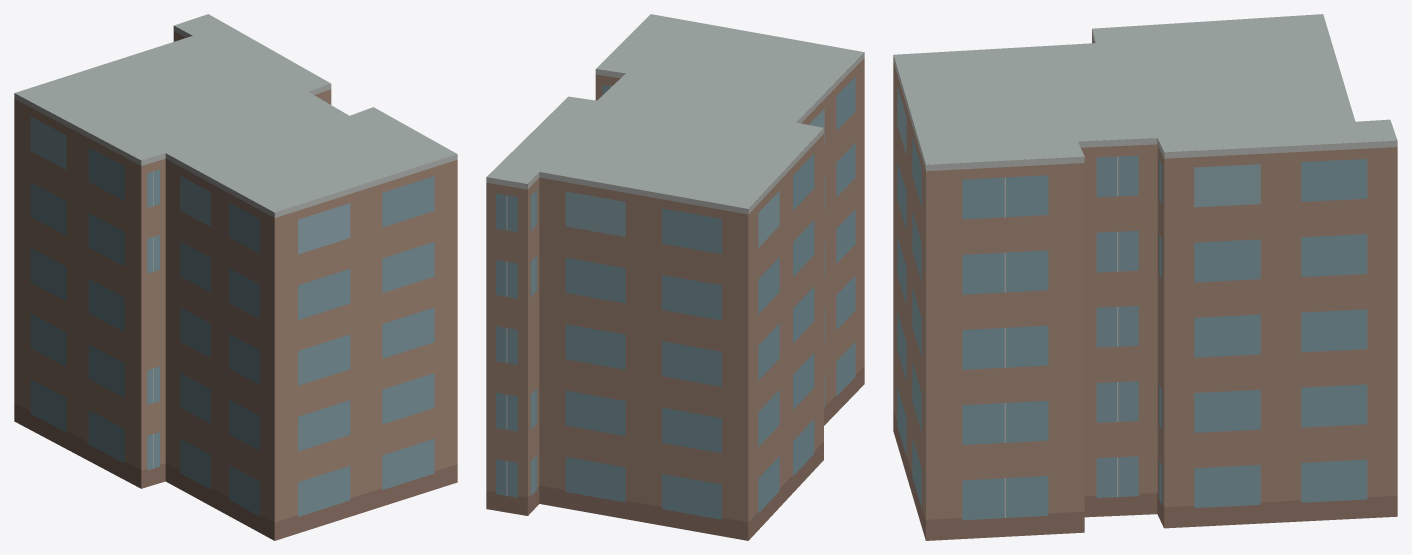
Rendered from survey-upis-33020286.glb.
3 renders of one model, left to right at view 1: azimuth 30°, elevation 25°; view 2: azimuth 150°, elevation 25°; view 3: azimuth 270°, elevation 25°, orthographic. The views are drawn at different scales.
Visible parts, largest first — view 1: survey-upis-33020286.tmp; view 2: survey-upis-33020286.tmp; view 3: survey-upis-33020286.tmp.
Boxes of the visible parts, box(x1,y1,x2,y2) form: survey-upis-33020286.tmp: box(14, 14, 457, 540); survey-upis-33020286.tmp: box(486, 14, 864, 540); survey-upis-33020286.tmp: box(893, 14, 1397, 540).
Bounding box in the file's own units: 12.49 × 14.5 × 17.63.
